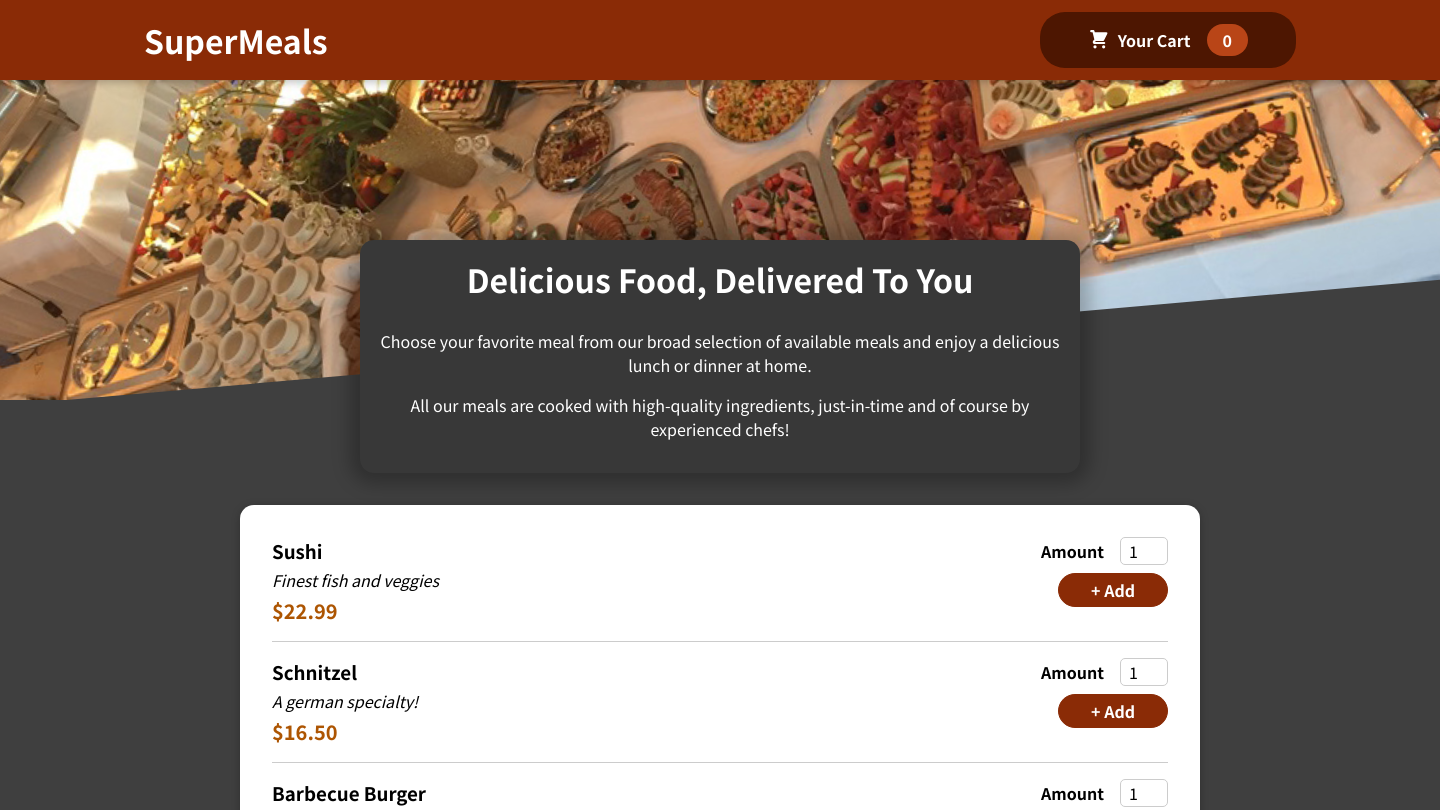
Scenario: App › opens the cart modal when the cart button is clicked
Click the text "Your Cart": (1154, 40) [1118, 28, 1191, 52]
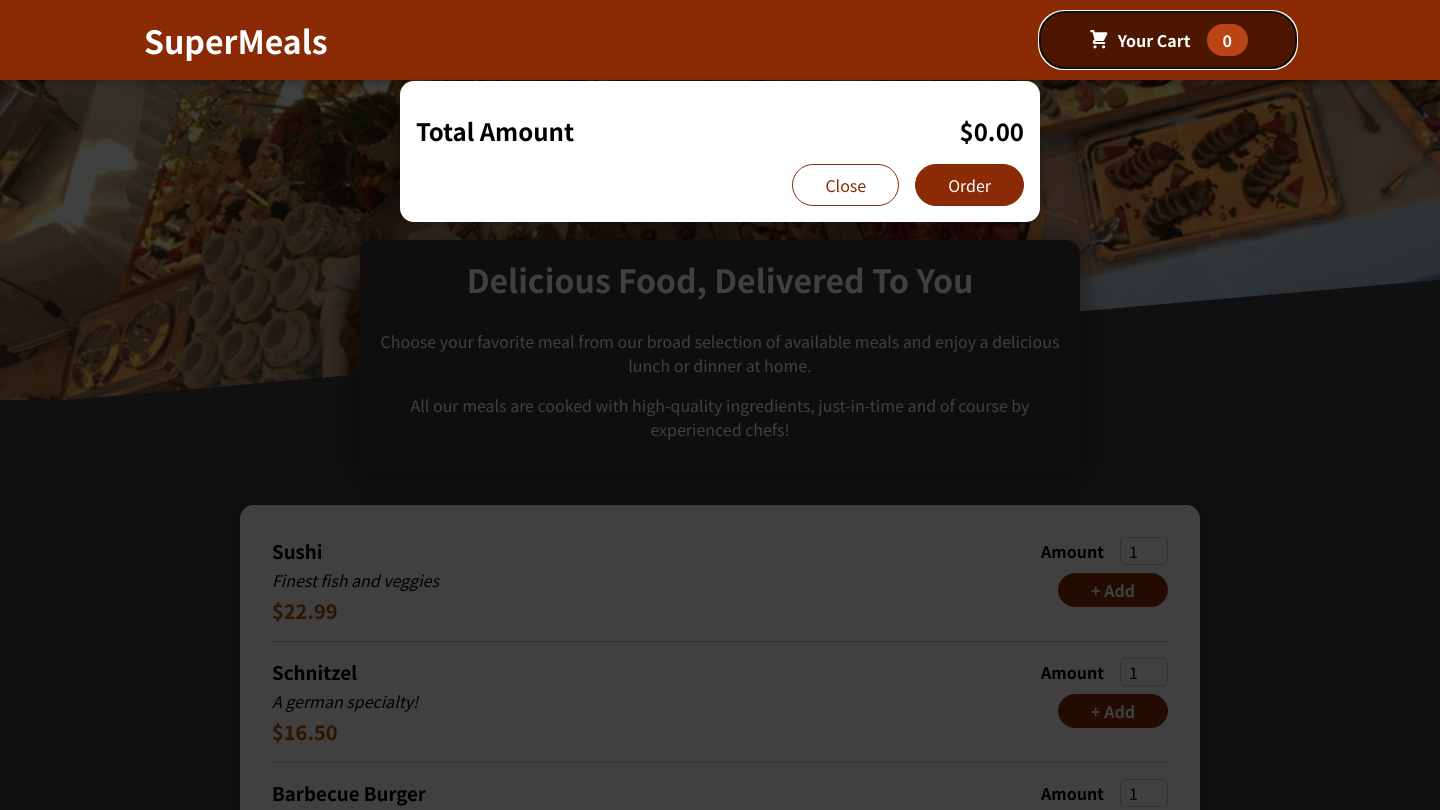
expect the text "Total Amount" is shown: met, box [416, 113, 574, 148]
